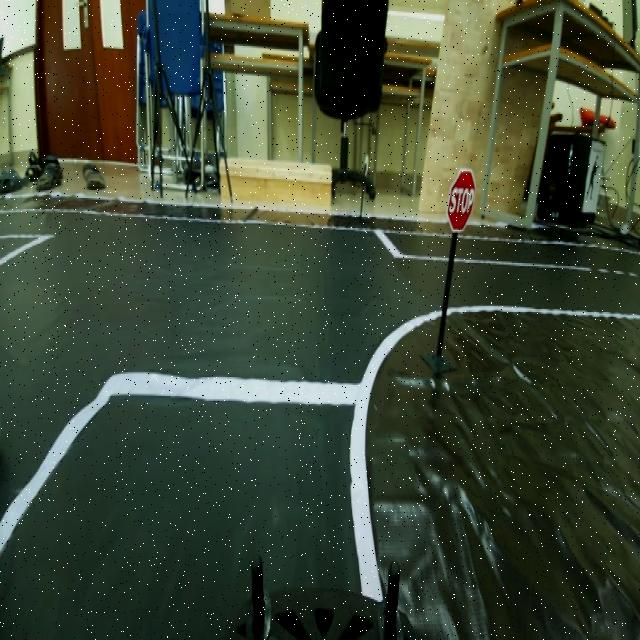stop: (446, 168, 481, 241)
